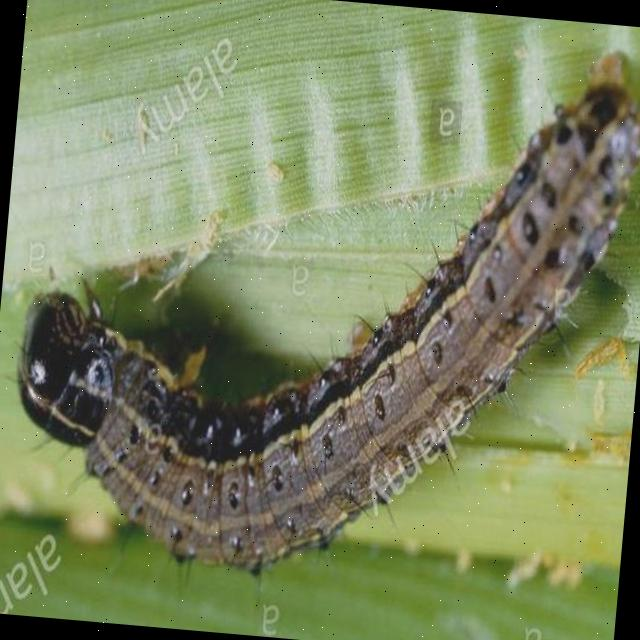worm: (1, 2, 640, 634)
